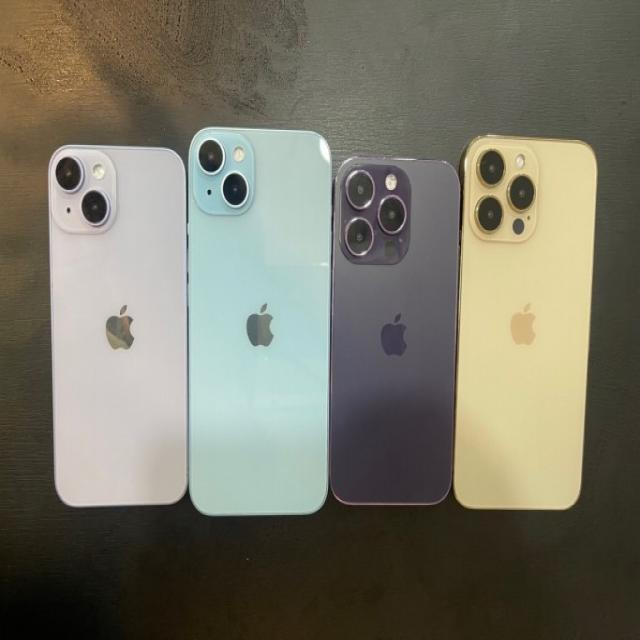phone: (190, 126, 330, 514), (47, 146, 190, 505), (330, 158, 460, 502)
